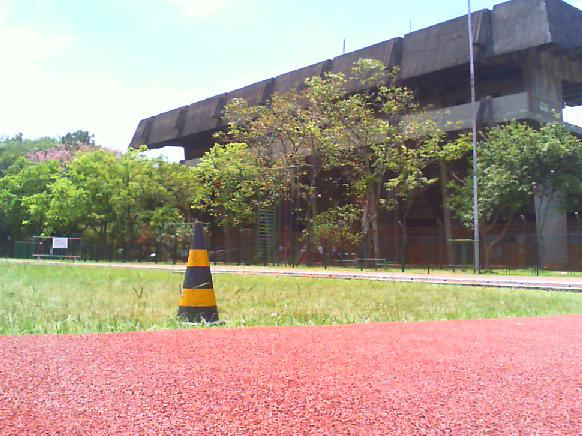0 cone: (177, 224, 224, 326)
